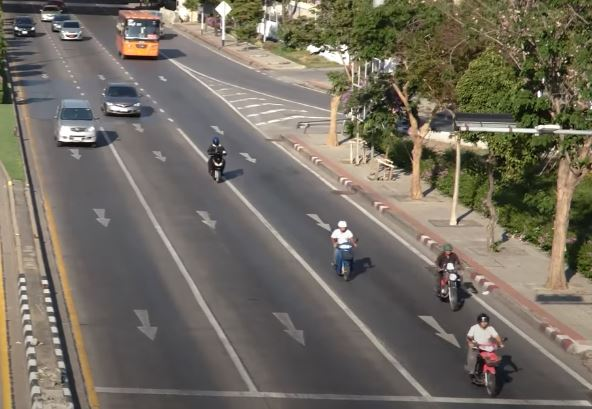Bus: (115, 9, 160, 58)
Car: (53, 98, 100, 147), (101, 81, 143, 119), (12, 15, 37, 38), (59, 19, 84, 42), (40, 5, 62, 24), (52, 15, 71, 31)
Motorcycle: (463, 314, 509, 394), (431, 242, 467, 311), (328, 219, 360, 282), (205, 137, 227, 184)
